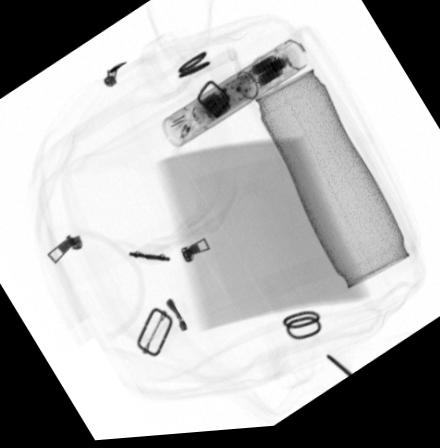Baton: (161, 41, 310, 150)
